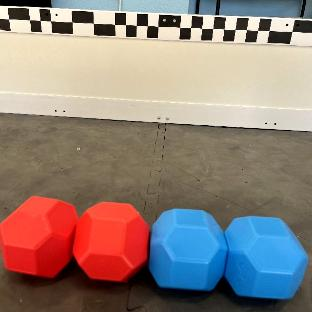V5_BLUE: (150, 209, 308, 299)
V5_RED: (0, 196, 148, 281)
